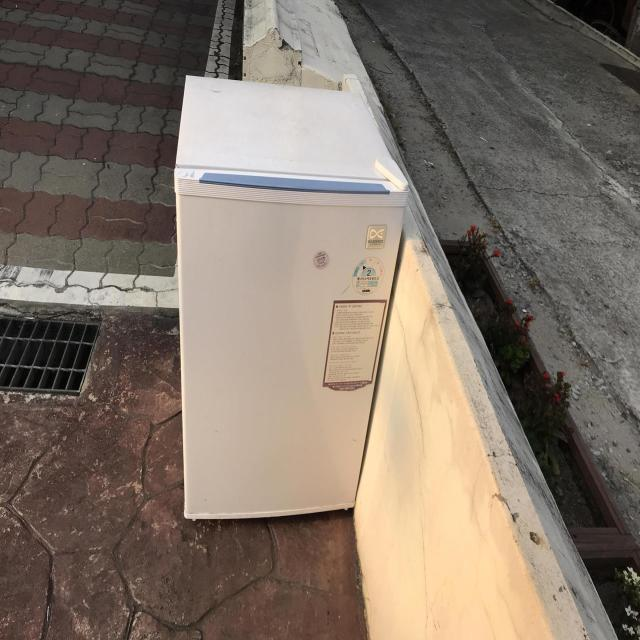refrigerator: (174, 71, 410, 525)
